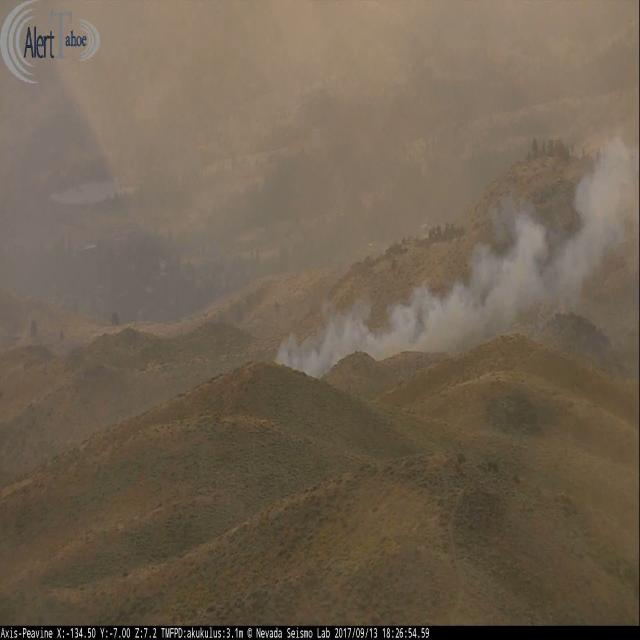smoke: (270, 135, 637, 379)
